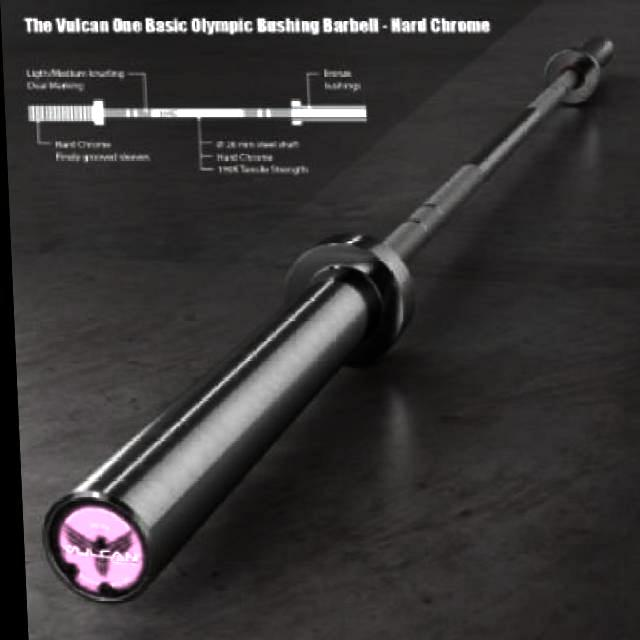barbell: (20, 232, 430, 619)
